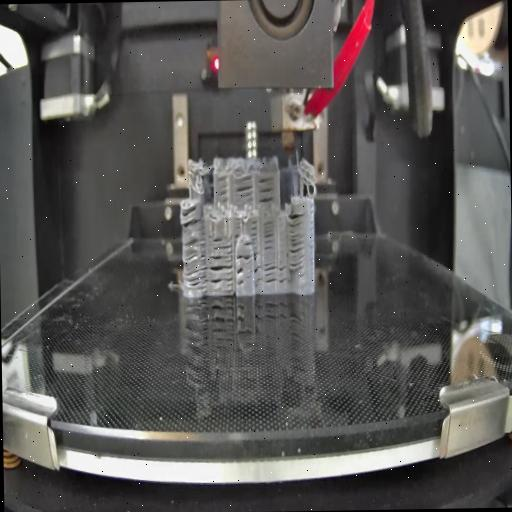cracks: (286, 208, 308, 273), (184, 234, 208, 288), (209, 254, 233, 292), (266, 258, 289, 286), (179, 202, 204, 227), (235, 176, 255, 200), (258, 179, 276, 204), (217, 176, 232, 202), (264, 218, 274, 252), (213, 235, 233, 250), (254, 253, 262, 285), (250, 217, 260, 240), (237, 268, 245, 288), (234, 214, 240, 238), (238, 252, 252, 261), (242, 239, 252, 248)
